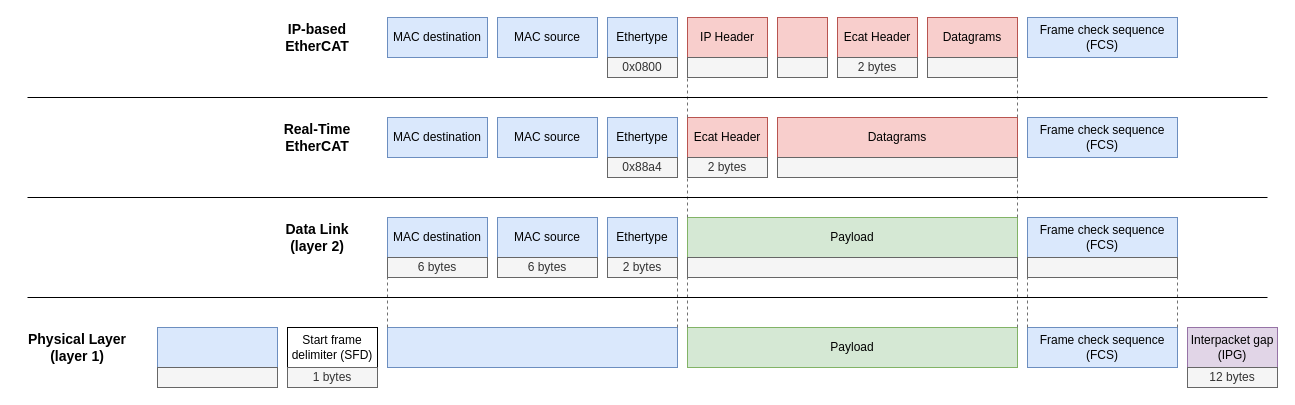
This 1295x405 diagram has some shape labels left out. Here are the shapes that lost their labels. From the top down, the centre of each, then its label:
the point at 802,37: UDP
the point at 727,67: 20 bytes
the point at 802,67: 8 bytes
the point at 972,67: 16 - 1470 bytes
the point at 897,167: 44 - 1498 bytes
the point at 852,267: 42 - 1500 bytes
the point at 1102,267: 4 bytes
the point at 217,347: Preamble
the point at 532,347: Ethernet Header
the point at 217,377: 7 bytes
